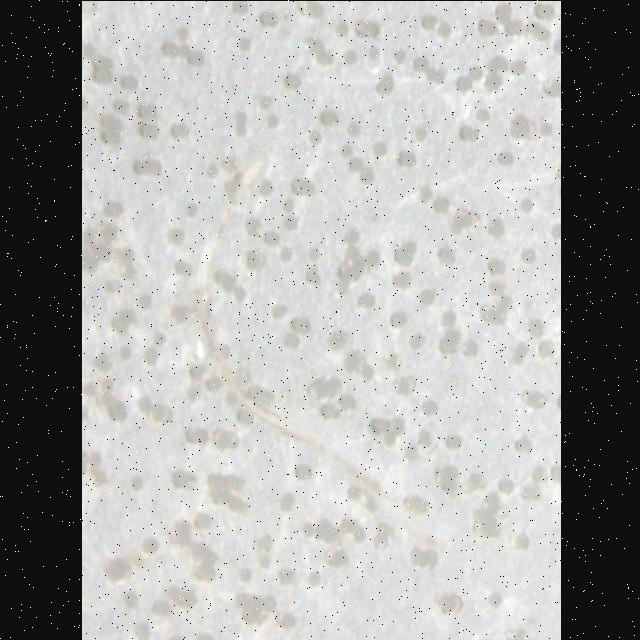Fibre: (193, 145, 447, 562)
